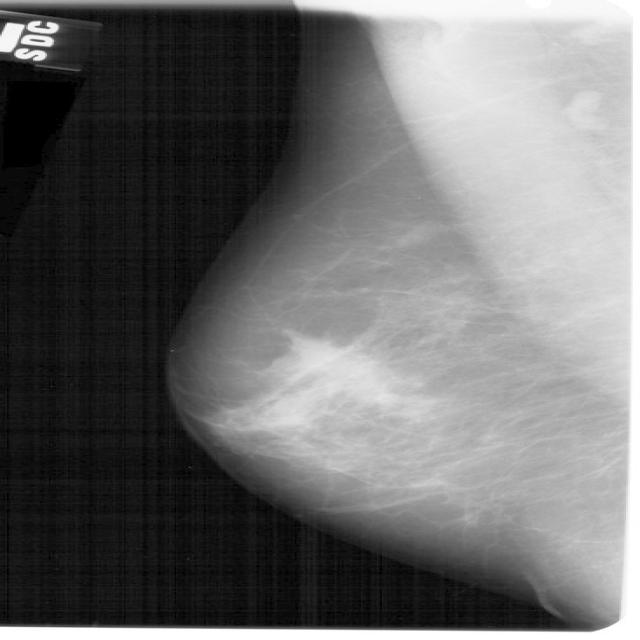tumour: (258, 331, 389, 408)
